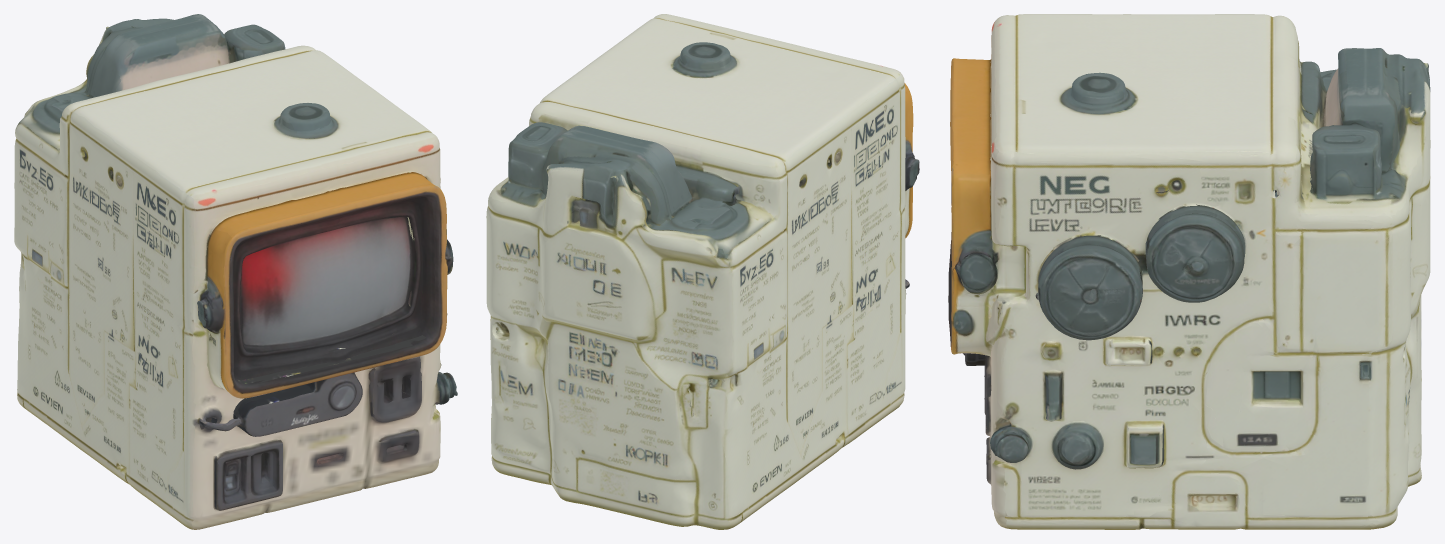
The model's file is 一类设备终端.glb.
3 views of the same model, side by side, from view 1: azimuth 30°, elevation 25°; view 2: azimuth 150°, elevation 25°; view 3: azimuth 270°, elevation 25° (orthographic). The views are drawn at different scales.
Visible parts, largest first — view 1: temp_mesh.ply_1; view 2: temp_mesh.ply_1; view 3: temp_mesh.ply_1.
Boxes of the visible parts, left/top/right/bottom form: temp_mesh.ply_1: left=14, top=14, right=457, bottom=529; temp_mesh.ply_1: left=486, top=14, right=919, bottom=529; temp_mesh.ply_1: left=948, top=14, right=1430, bottom=529.
Bounding box in the file's own units: 1.51 × 1.82 × 1.97.
Materials: 1 (1 with a texture image).
